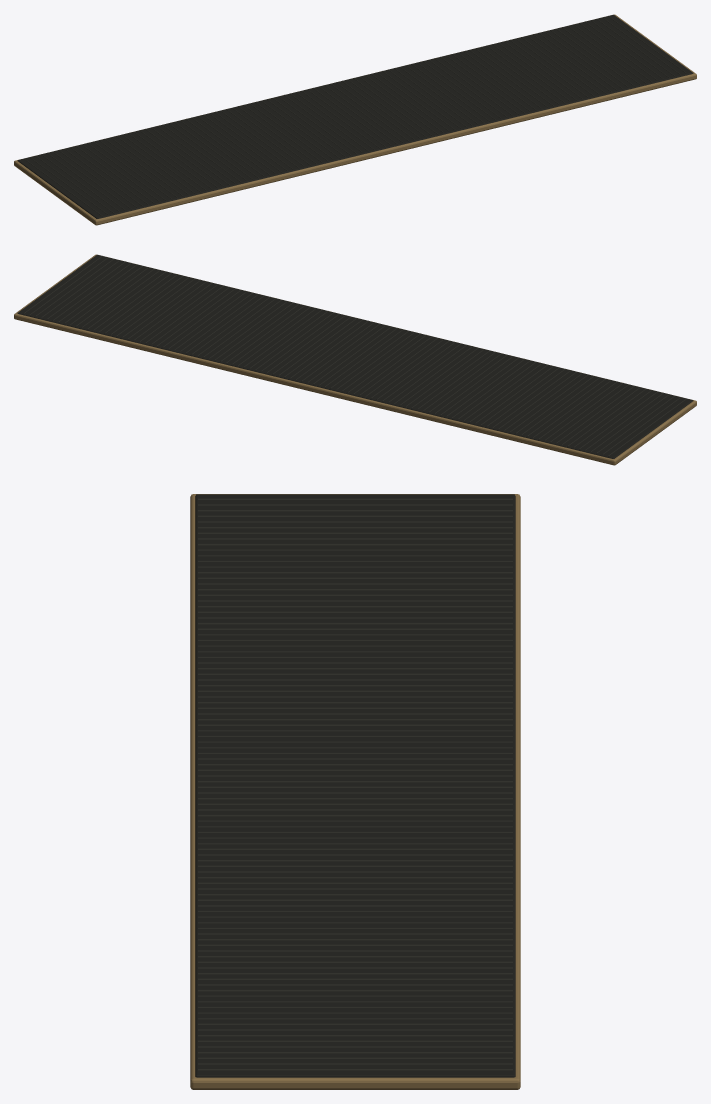
The model's file is rail.glb.
3 views of the same model, one above another, from view 1: azimuth 30°, elevation 25°; view 2: azimuth 150°, elevation 25°; view 3: azimuth 270°, elevation 25° (orthographic). The views are drawn at different scales.
Visible parts, largest first — view 1: rail; view 2: rail; view 3: rail.
Boxes of the visible parts, x1=… form: rail: x1=14, y1=14, x2=696, y2=225; rail: x1=14, y1=254, x2=696, y2=465; rail: x1=190, y1=494, x2=520, y2=1089.
Size of the model in its own units: 3.62 by 0.0398 by 0.86.
